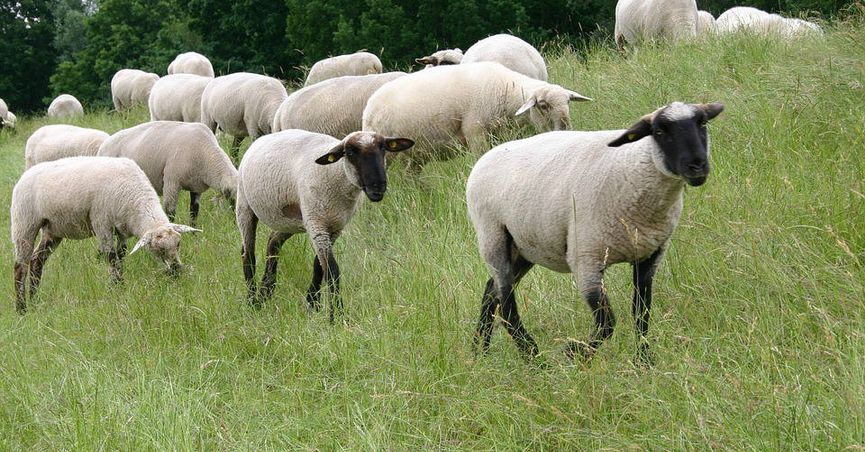sheep: (474, 108, 721, 386), (216, 130, 406, 318), (1, 155, 186, 323), (376, 45, 550, 171), (102, 103, 268, 233), (273, 65, 401, 173), (173, 61, 297, 144), (614, 1, 842, 44), (23, 118, 136, 177), (155, 57, 215, 140), (471, 20, 559, 73), (108, 50, 171, 124)
